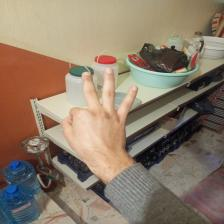five: (61, 68, 138, 173)
